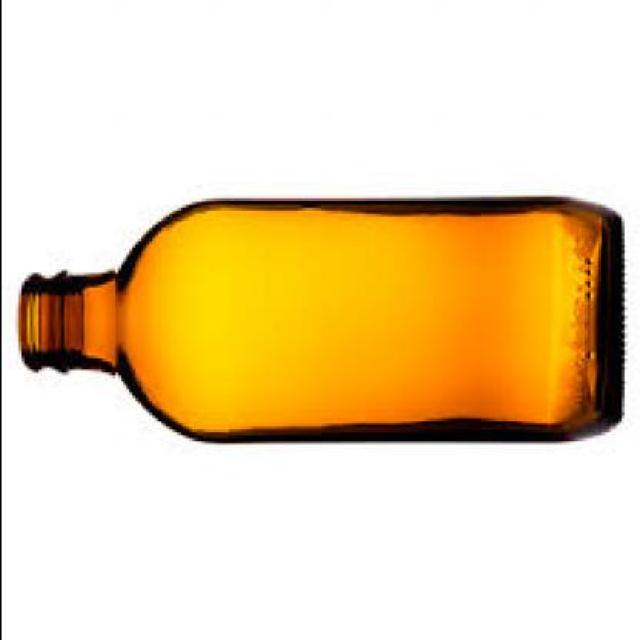GLASS: (11, 194, 623, 443)
